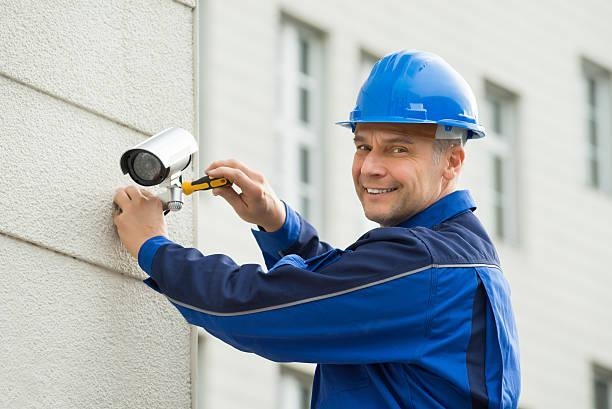camera: (89, 103, 230, 217)
